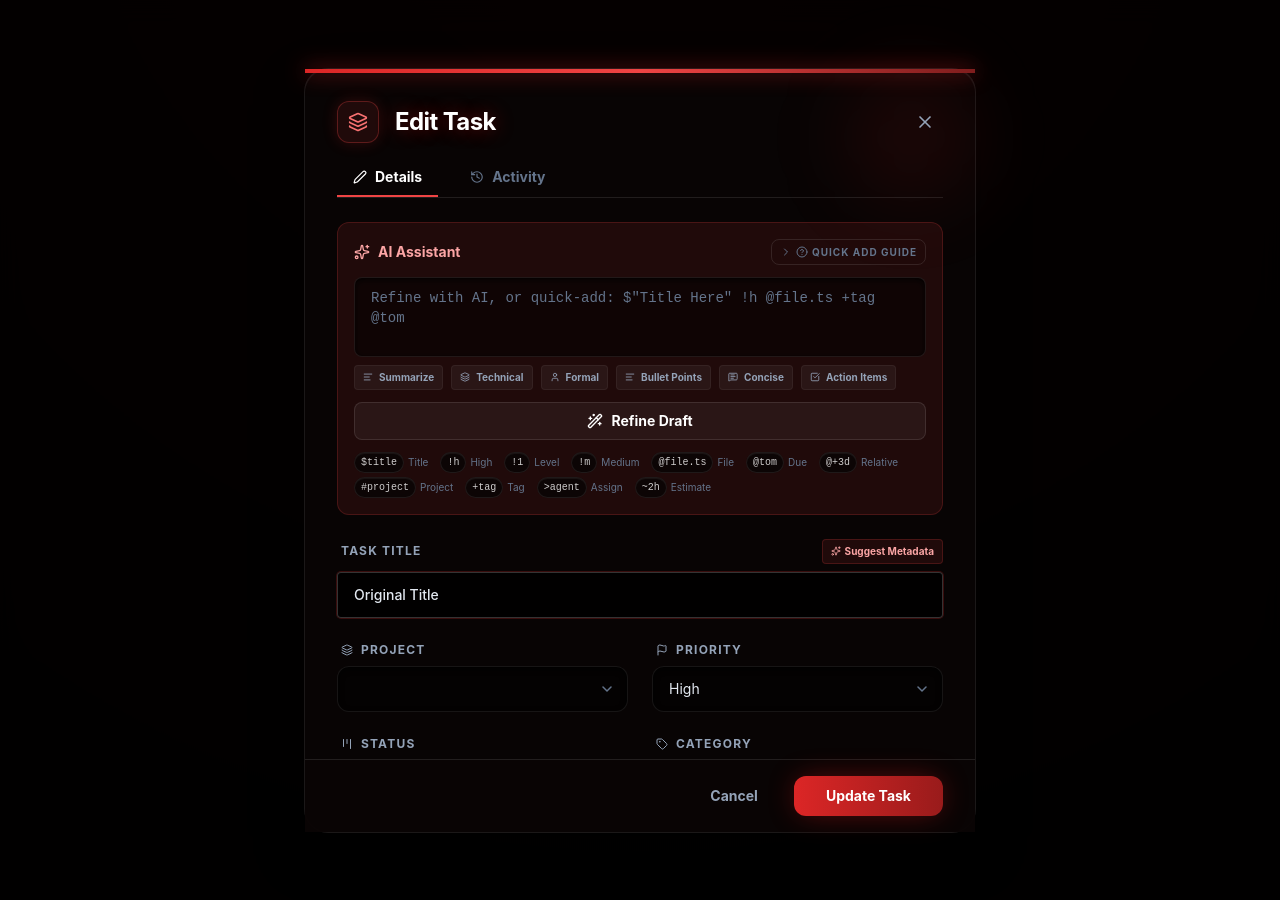
Test case: TaskFormModal Features › should switch between Details and Activity tabs
Expected: the field with placeholder "e.g., Update Q3 Financials" is shown, [337,572,943,618]
// Switch to Activity tab
Click the button "Activity" at [508, 178], box [454,158,562,196]
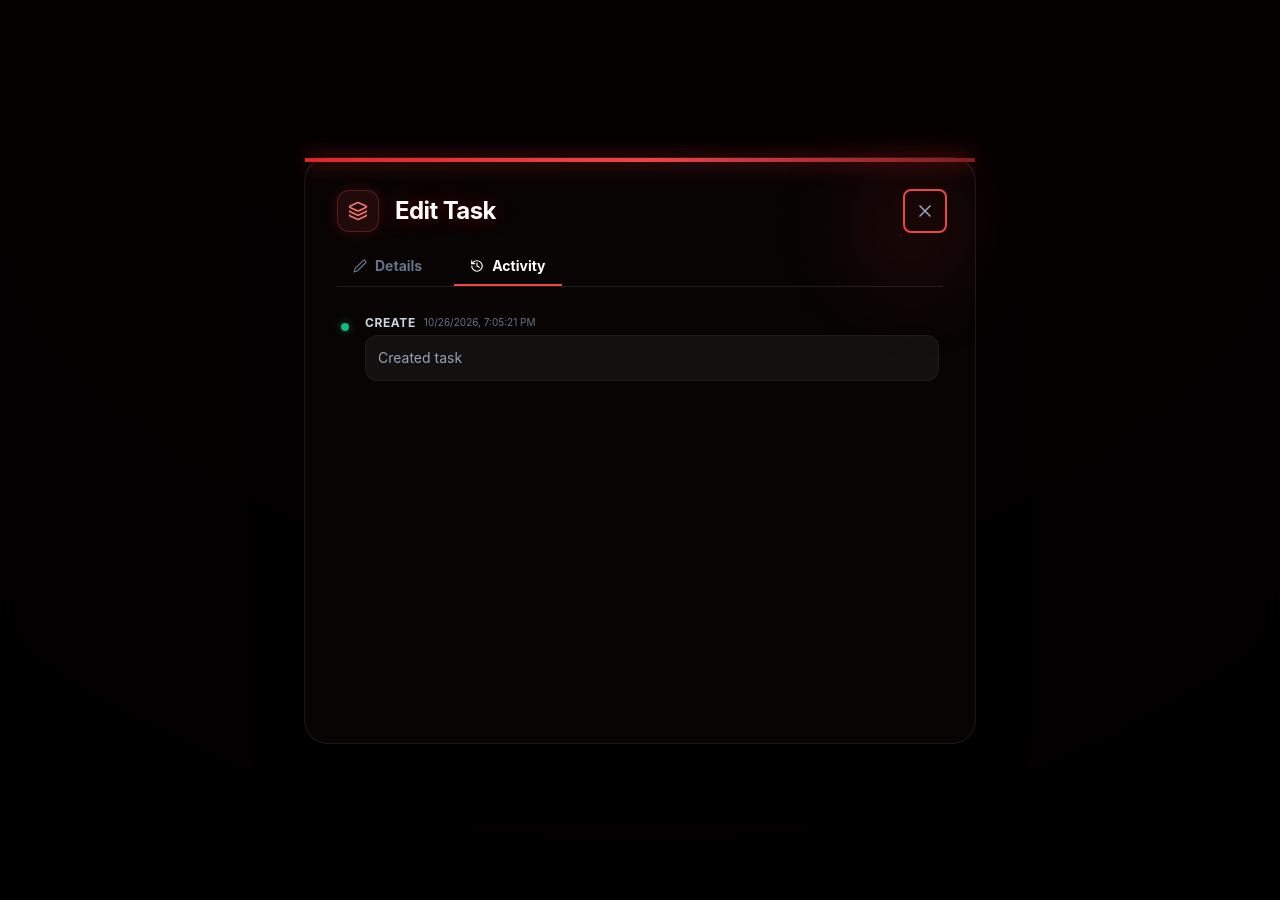
Now the text "Created task" is shown, box [365,334,939,380]
